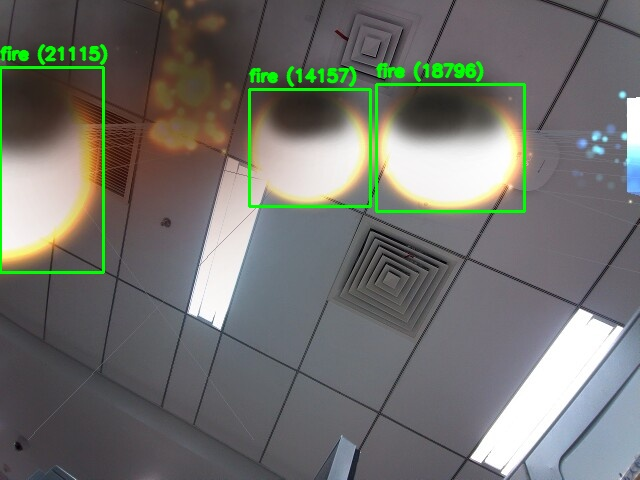fire: (0, 67, 103, 272), (376, 84, 524, 211), (249, 89, 370, 206)
